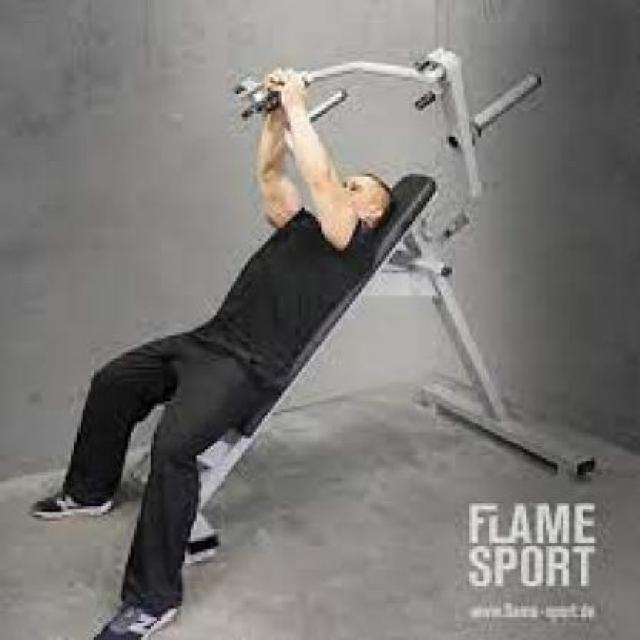chest fly machine: (23, 23, 600, 640)
